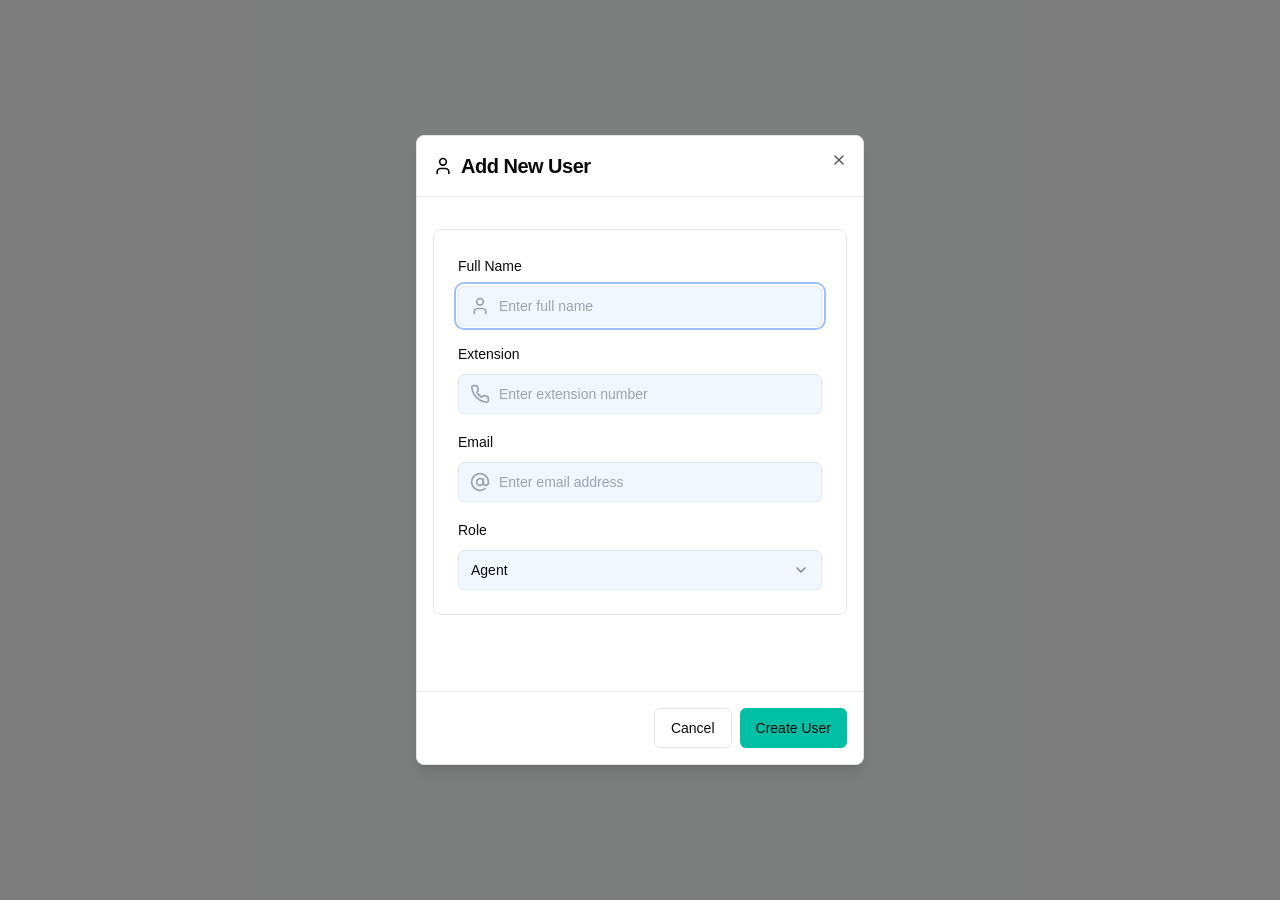
Test: AddUserModal › Validation › shows error for name less than 2 characters
Type "A" into the field labelled "Full Name" at (640, 306), box top-left (458, 286), bottom-right (822, 326)
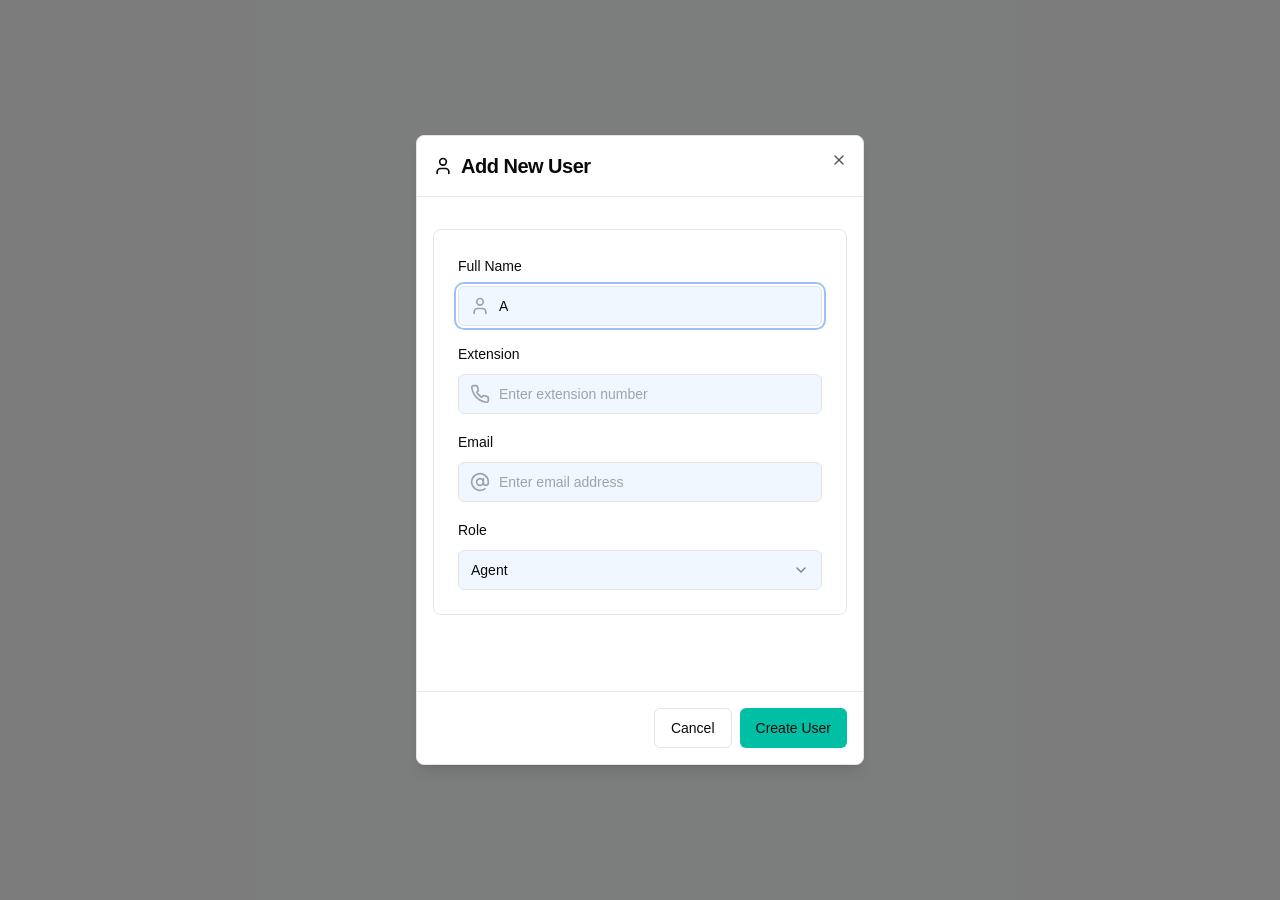
Leave the field labelled "Full Name", box top-left (458, 286), bottom-right (822, 326)
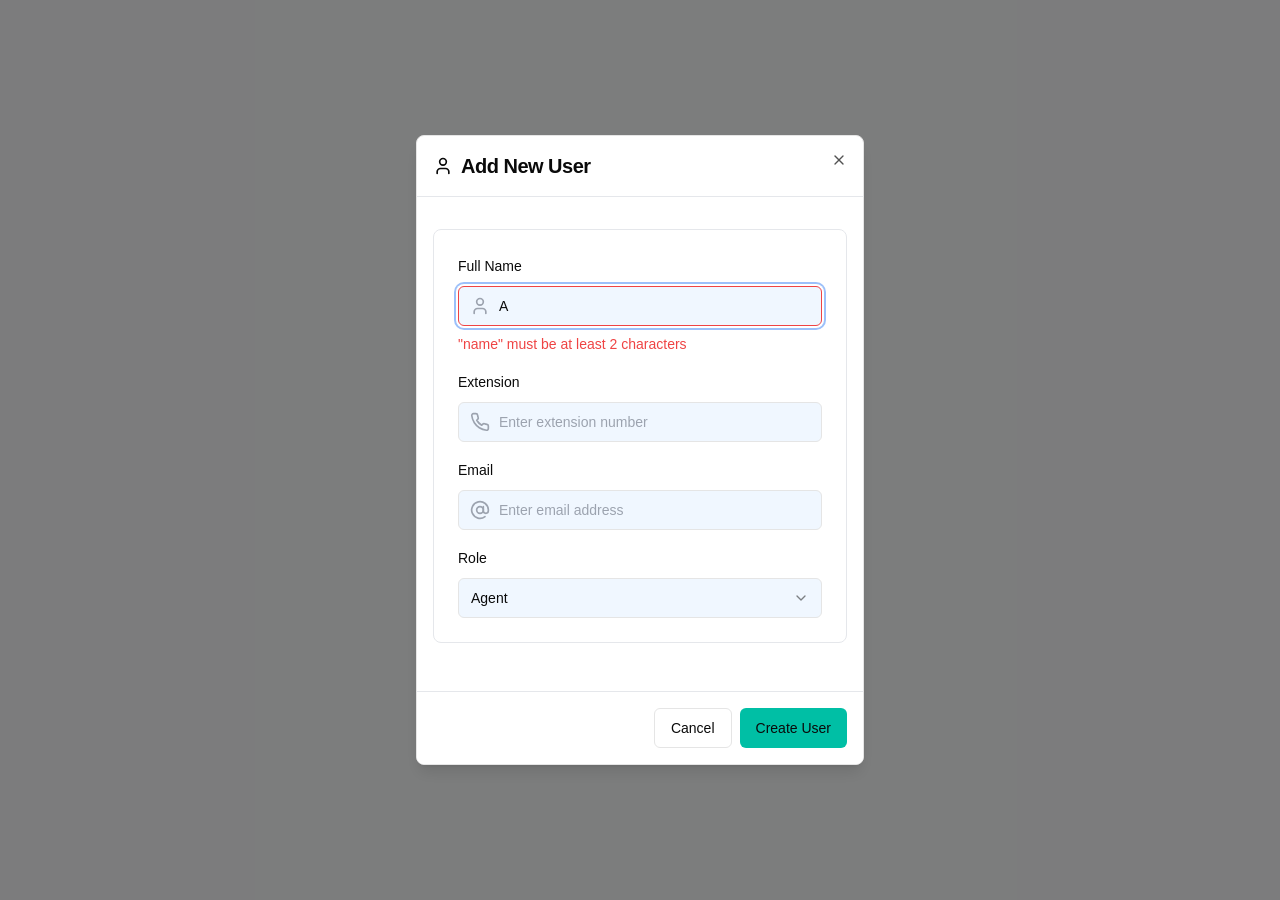
Result: the text "\"name\" must be at least 2 characters" is shown at top-left (458, 336), bottom-right (687, 352)
